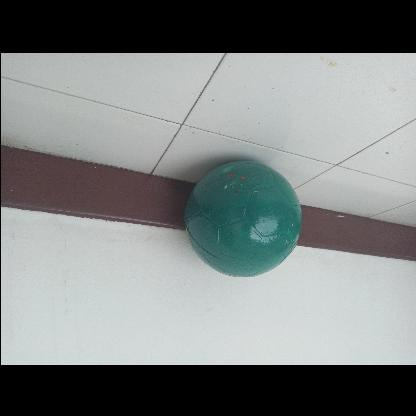green_ball: (181, 162, 298, 278)
